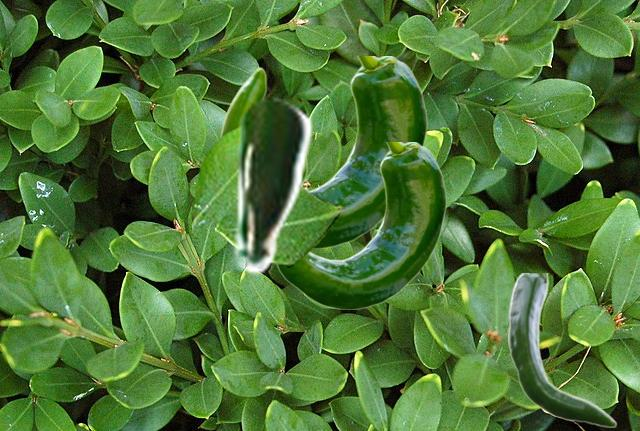green_chili: (219, 56, 427, 247), (277, 142, 446, 308), (508, 273, 616, 426), (229, 95, 313, 274)
